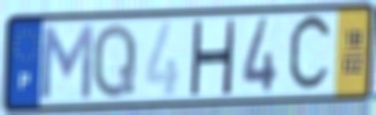4: (240, 14, 281, 96), (143, 19, 183, 99)
C: (285, 10, 335, 99)
H: (187, 18, 238, 97)
M: (38, 21, 96, 102)
Q: (90, 20, 139, 102)
